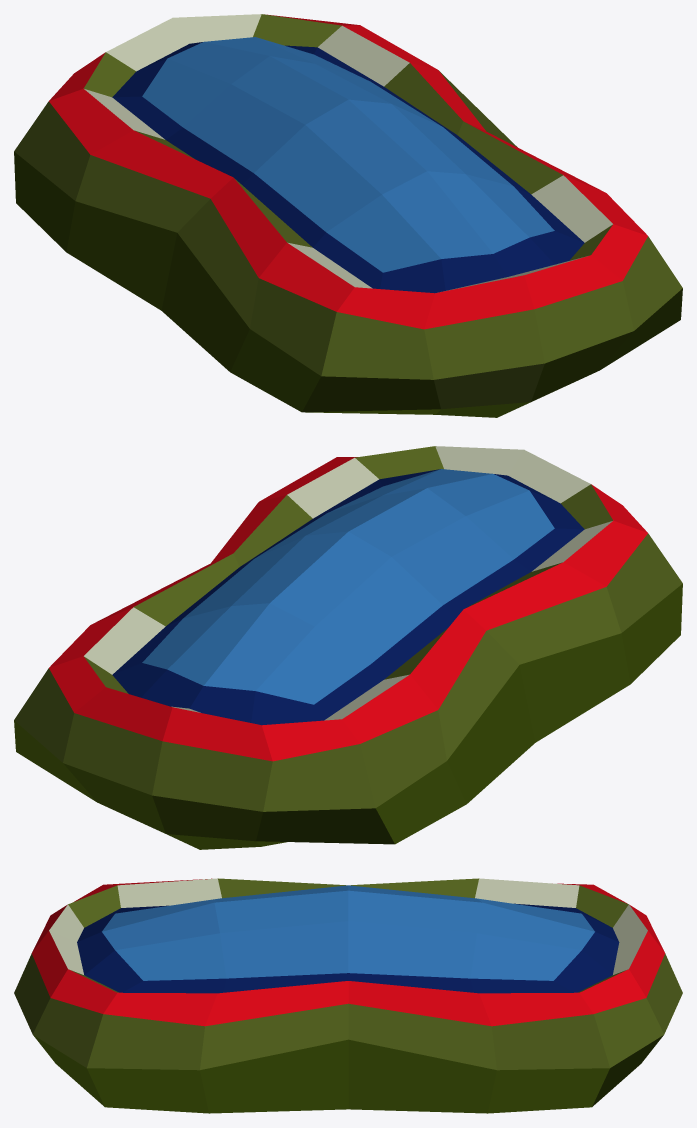
The model's file is RescuePod.fbx.
3 renders of one model, top to bottom at view 1: azimuth 30°, elevation 25°; view 2: azimuth 150°, elevation 25°; view 3: azimuth 270°, elevation 25°, orthographic. The views are drawn at different scales.
Parts seen in each view (by area): view 1: Cube; view 2: Cube; view 3: Cube.
Part boxes in pixels (left/top/right/bottom): Cube: left=14, top=14, right=682, bottom=417; Cube: left=14, top=446, right=682, bottom=849; Cube: left=14, top=878, right=682, bottom=1113.
Bounding box in the file's own units: 256 × 149 × 435.
